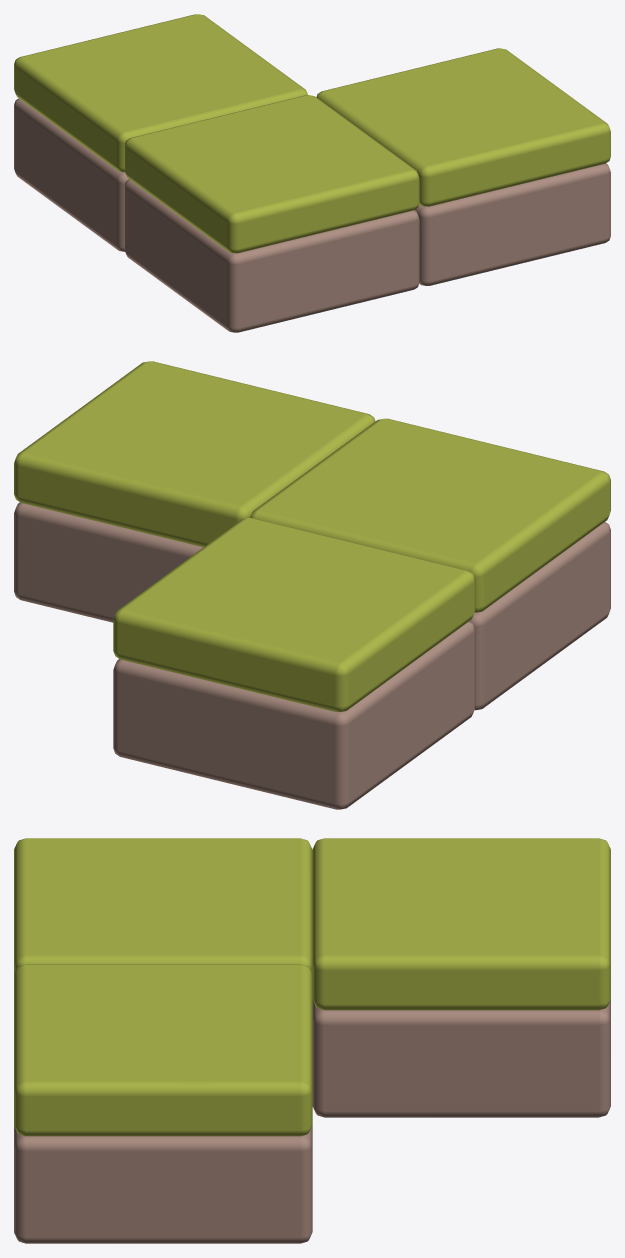
The picture shows the model from 3 angles, top to bottom: view 1: azimuth 30°, elevation 25°; view 2: azimuth 150°, elevation 25°; view 3: azimuth 270°, elevation 25°; orthographic projection. The views are drawn at different scales.
Parts seen in each view (by area): view 1: Cube.247; view 2: Cube.247; view 3: Cube.247.
Boxes of the visible parts, x1,y1,x2,y2 form: Cube.247: (14,14,610,332); Cube.247: (14,361,610,809); Cube.247: (14,838,610,1243).
Bounding box in the file's own units: 2 × 0.6001 × 2.
Materials: 1 (1 with a texture image).
